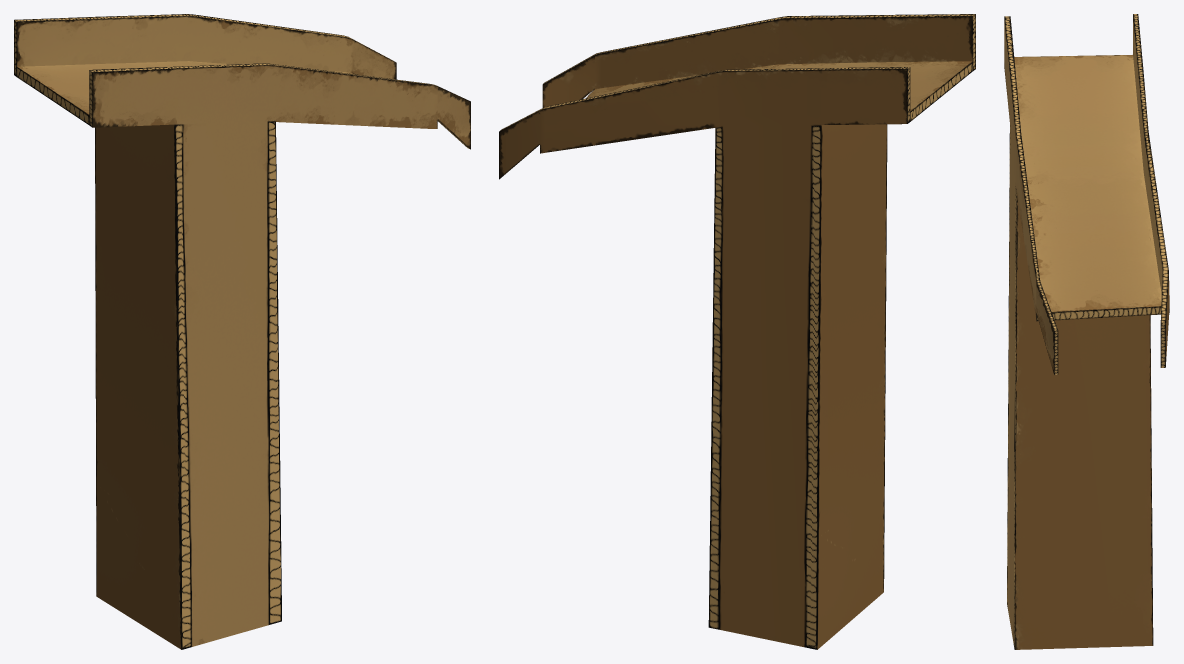
Rendered from SM_Part12_Playtrack.fbx.
The picture shows the model from 3 angles, left to right: view 1: azimuth 30°, elevation 25°; view 2: azimuth 150°, elevation 25°; view 3: azimuth 270°, elevation 25°; orthographic projection. The views are drawn at different scales.
Parts seen in each view (by area): view 1: Panel_12; view 2: Panel_12; view 3: Panel_12.
Part boxes in pixels (x1,y1,x2,y2): Panel_12: [14, 14, 470, 649]; Panel_12: [499, 14, 975, 649]; Panel_12: [1004, 14, 1169, 649].
Bounding box in the file's own units: 8618 × 12042 × 3302.
